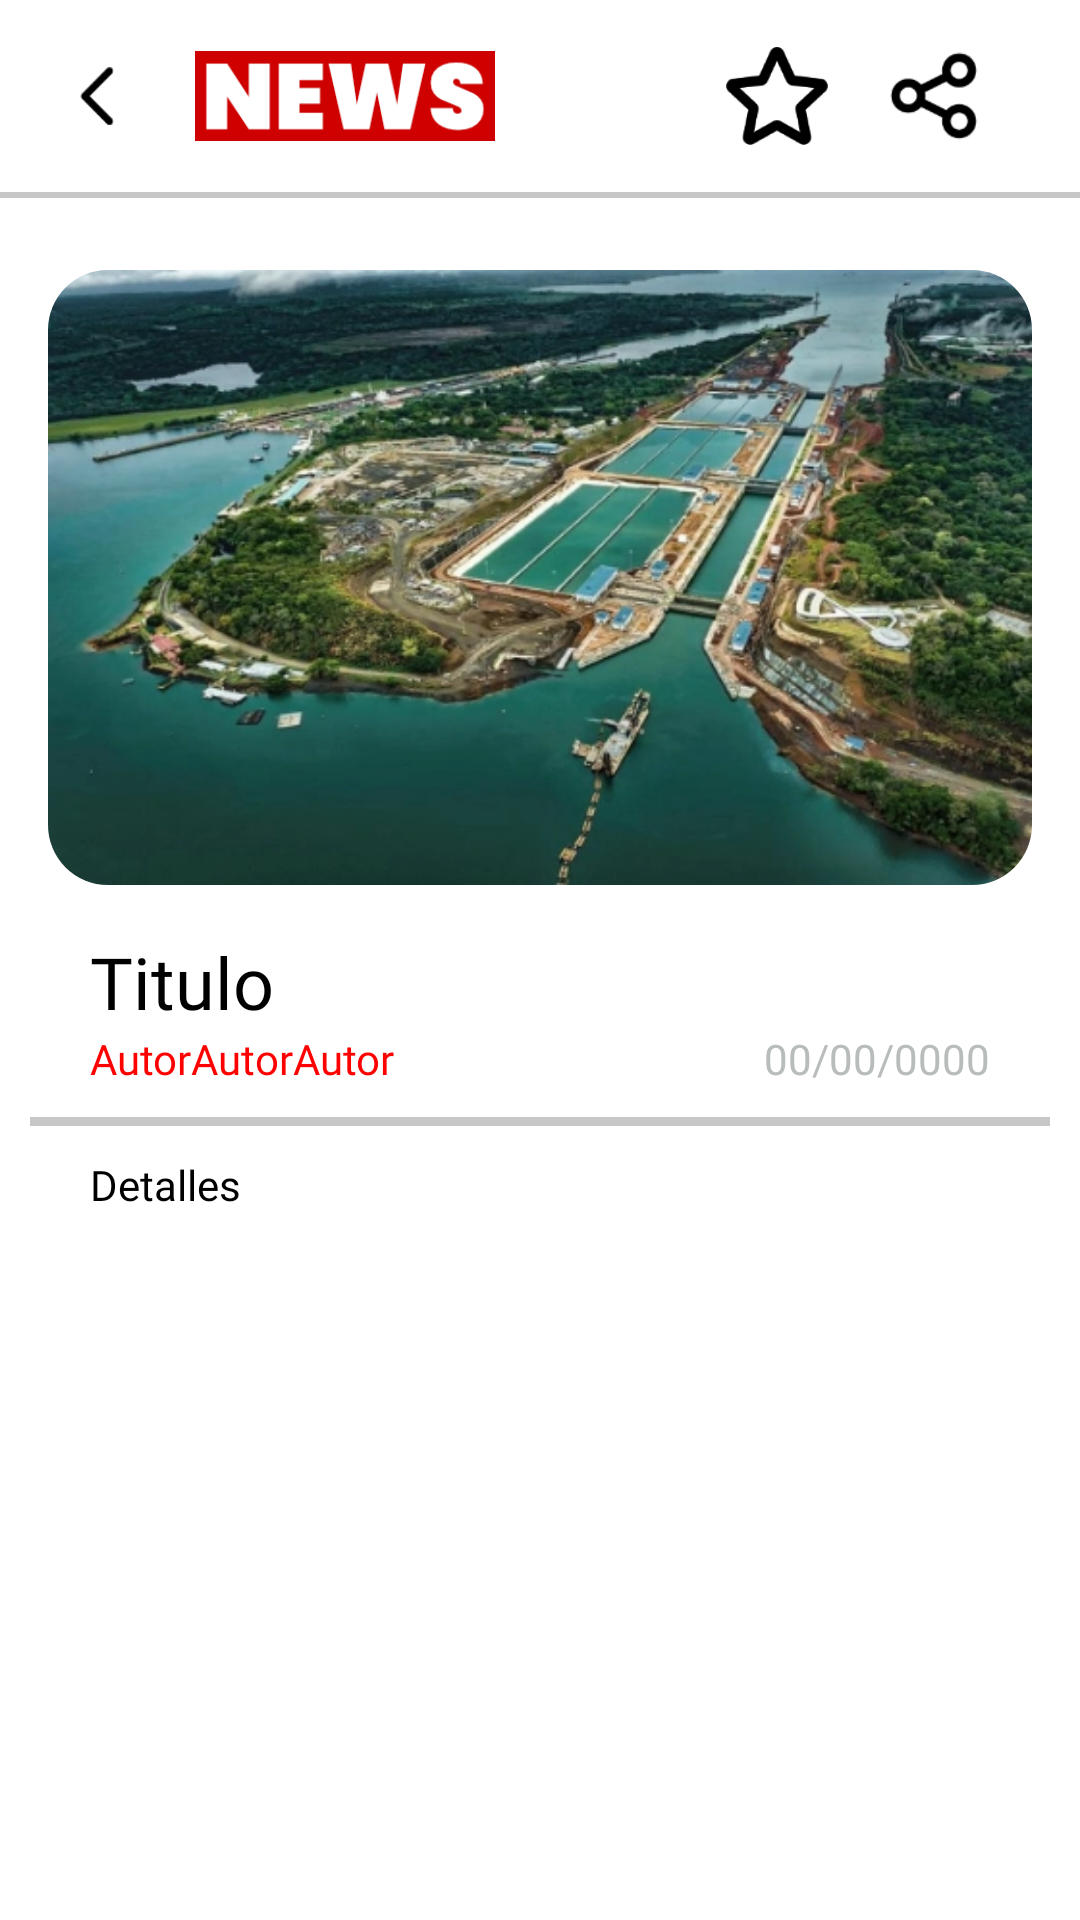

Where to tap for icons on this 1080x1920 app screen, as (x=x, y=y):
compartir: (x=933, y=95)
estrella: (x=777, y=96)
regresar: (x=97, y=96)
